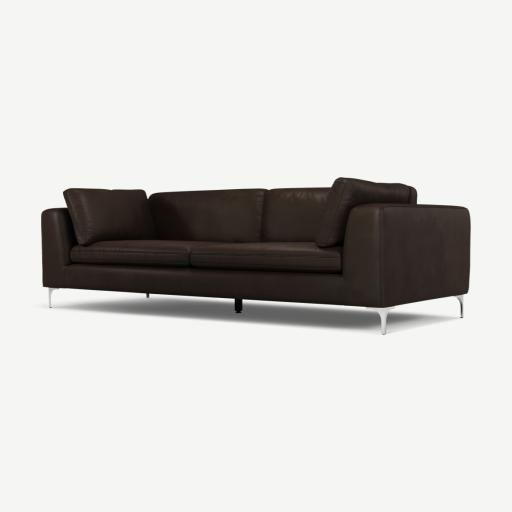back_cushion: (149, 188, 329, 243)
base: (62, 264, 372, 306)
left_arm: (341, 204, 470, 306)
legs: (367, 306, 394, 334), (48, 288, 59, 307), (456, 295, 463, 317), (235, 299, 242, 313)
right_arm: (42, 209, 76, 296)
seat_cushion: (71, 240, 342, 274)
two-seater: (0, 0, 511, 512)
